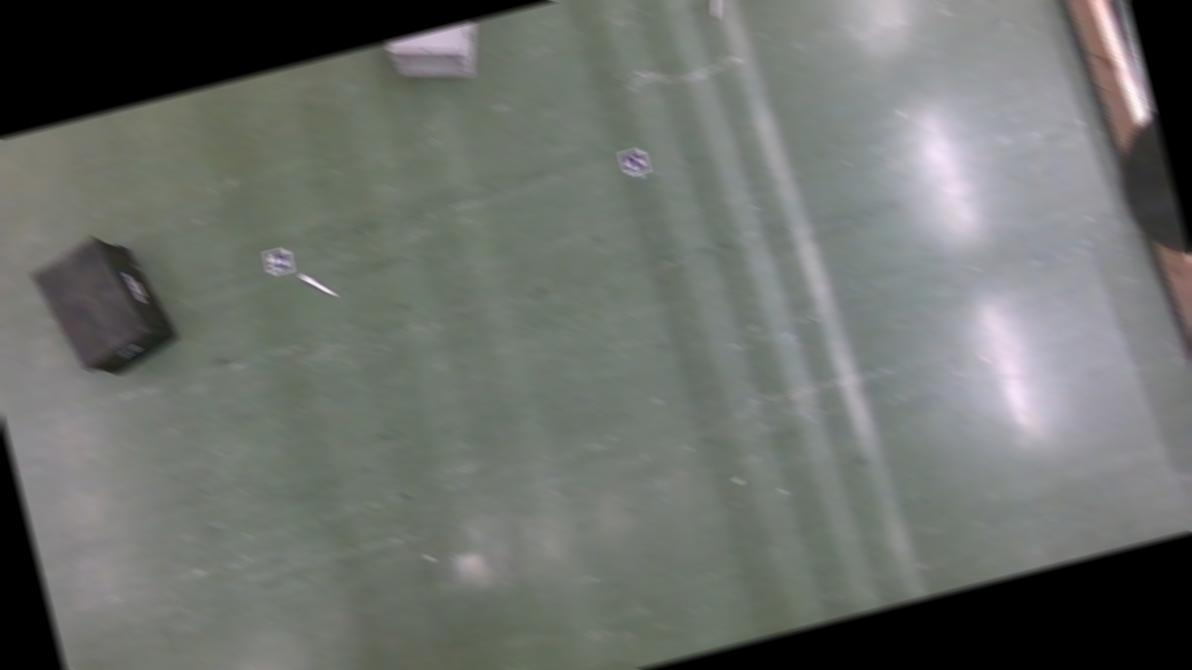probes: (302, 268, 336, 304), (705, 0, 727, 18)
rako: (28, 225, 186, 392), (384, 19, 490, 95)
